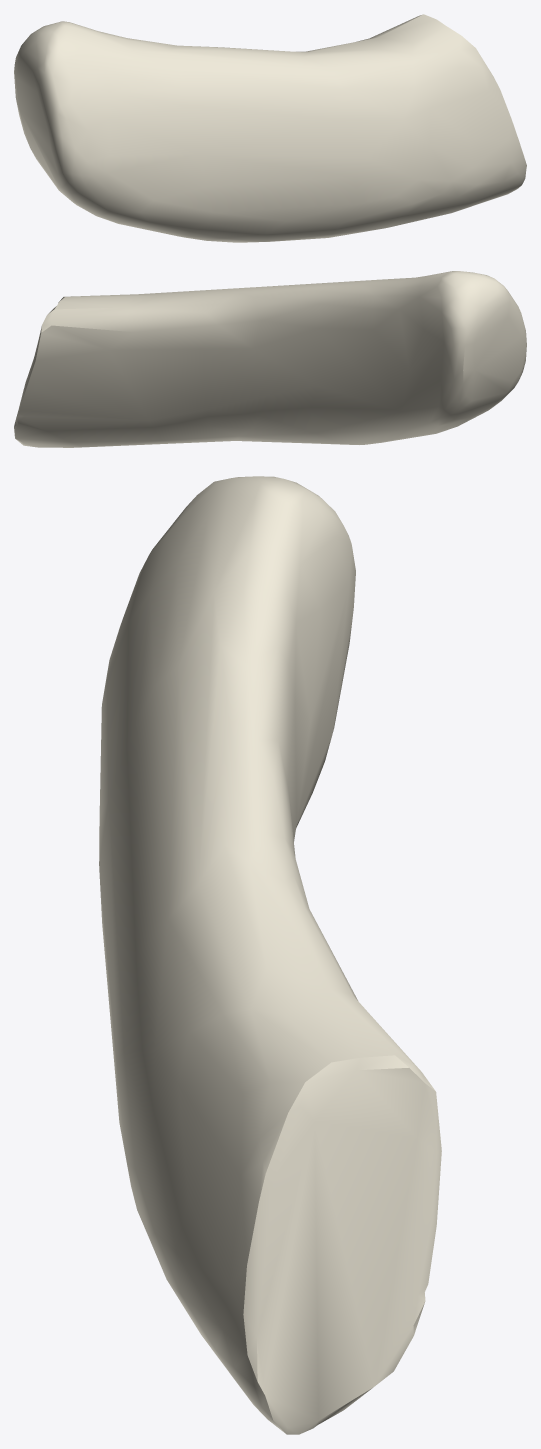
File: fma8167_fj3248.glb
The picture shows the model from 3 angles, top to bottom: view 1: azimuth 30°, elevation 25°; view 2: azimuth 150°, elevation 25°; view 3: azimuth 270°, elevation 25°; orthographic projection. The views are drawn at different scales.
Visible parts, largest first — view 1: FMA8167_FJ3248; view 2: FMA8167_FJ3248; view 3: FMA8167_FJ3248.
Part boxes in pixels (<box>): FMA8167_FJ3248: <box>14,14,526,242</box>; FMA8167_FJ3248: <box>14,271,526,447</box>; FMA8167_FJ3248: <box>99,476,441,1434</box>.
Bounding box in the file's own units: 0.0455 × 0.0245 × 0.0143.
